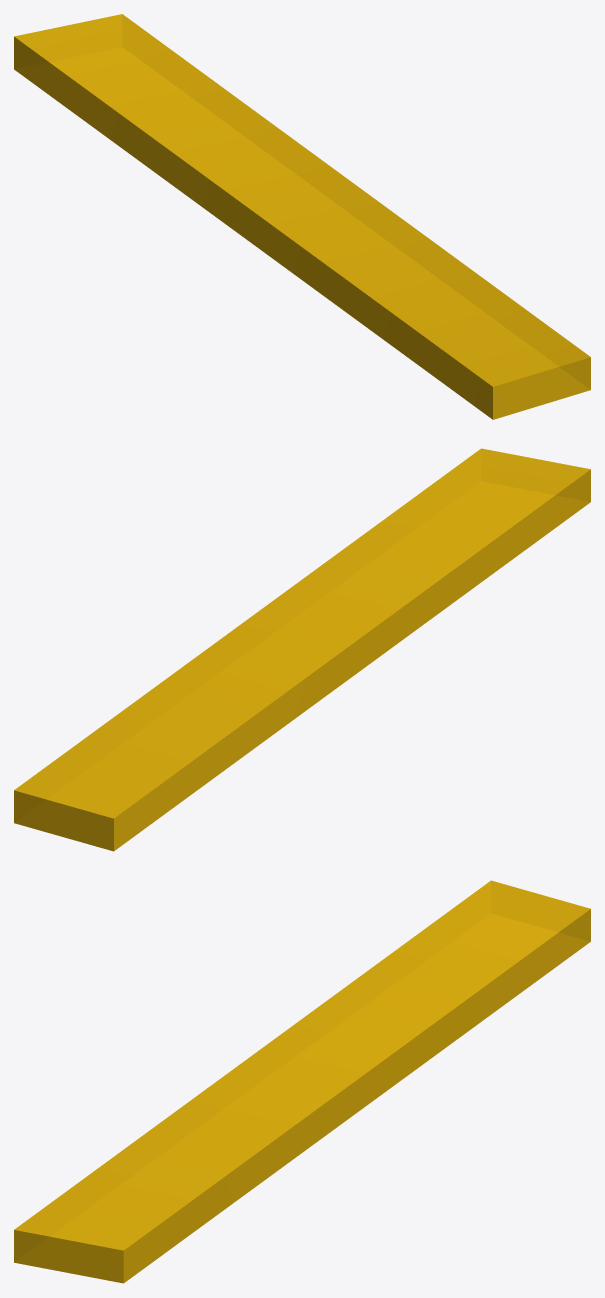
The model's file is SM_Bld_Dock_Plank_06_Collision.fbx.
3 views of the same model, one above another, from view 1: azimuth 30°, elevation 25°; view 2: azimuth 150°, elevation 25°; view 3: azimuth 330°, elevation 25° (orthographic).
Parts seen in each view (by area): view 1: SM_Bld_Dock_Plank_06_Collision; view 2: SM_Bld_Dock_Plank_06_Collision; view 3: SM_Bld_Dock_Plank_06_Collision.
Boxes of the visible parts, x1,y1,x2,y2 form: SM_Bld_Dock_Plank_06_Collision: (14,14,590,419); SM_Bld_Dock_Plank_06_Collision: (14,448,590,851); SM_Bld_Dock_Plank_06_Collision: (14,880,590,1283).
Size of the model in its own units: 34.65 by 10.46 by 276.
